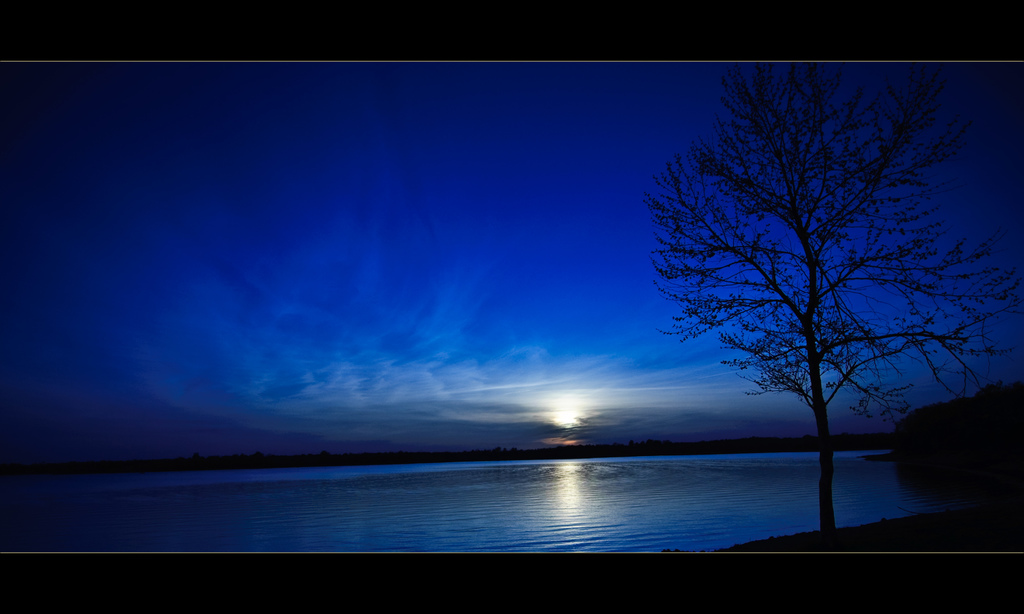Tree: (673, 98, 972, 499)
